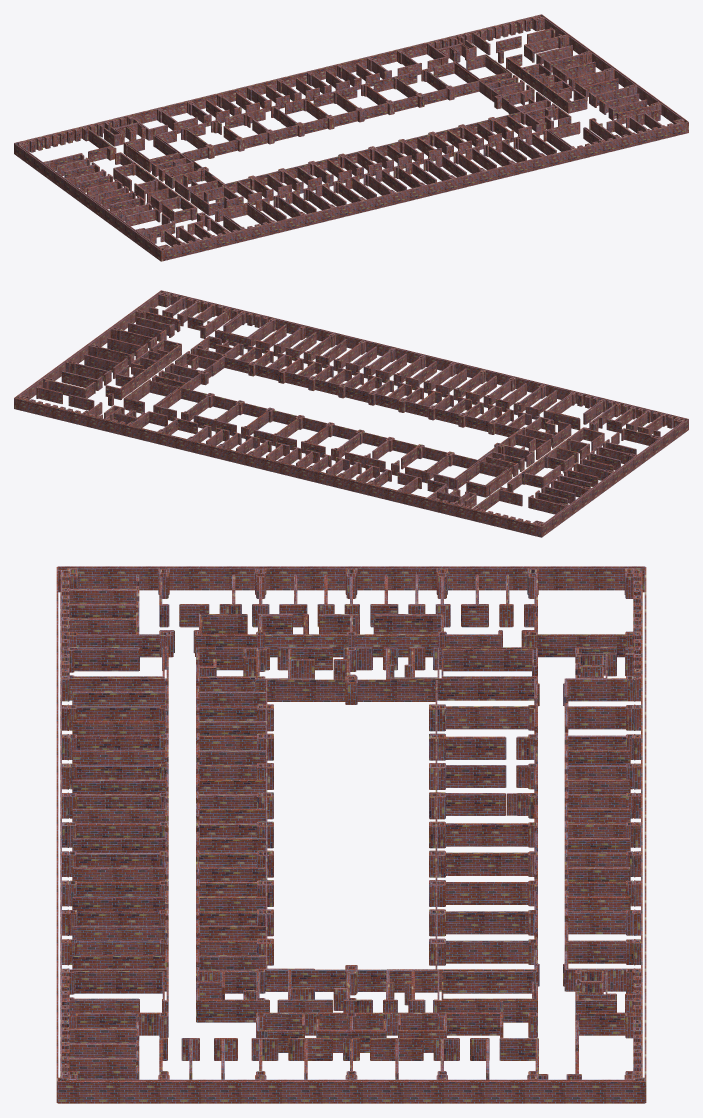
File: povoBricks.dae
The picture shows the model from 3 angles, top to bottom: view 1: azimuth 30°, elevation 25°; view 2: azimuth 150°, elevation 25°; view 3: azimuth 270°, elevation 25°; orthographic projection. The views are drawn at different scales.
Parts seen in each view (by area): view 1: walls; view 2: walls; view 3: walls.
Part boxes in pixels (<box>): walls: <box>14,14,688,261</box>; walls: <box>14,290,688,537</box>; walls: <box>56,566,646,1103</box>.
Bounding box in the file's own units: 102 × 49.35 × 2.
Materials: 1 (1 with a texture image).
